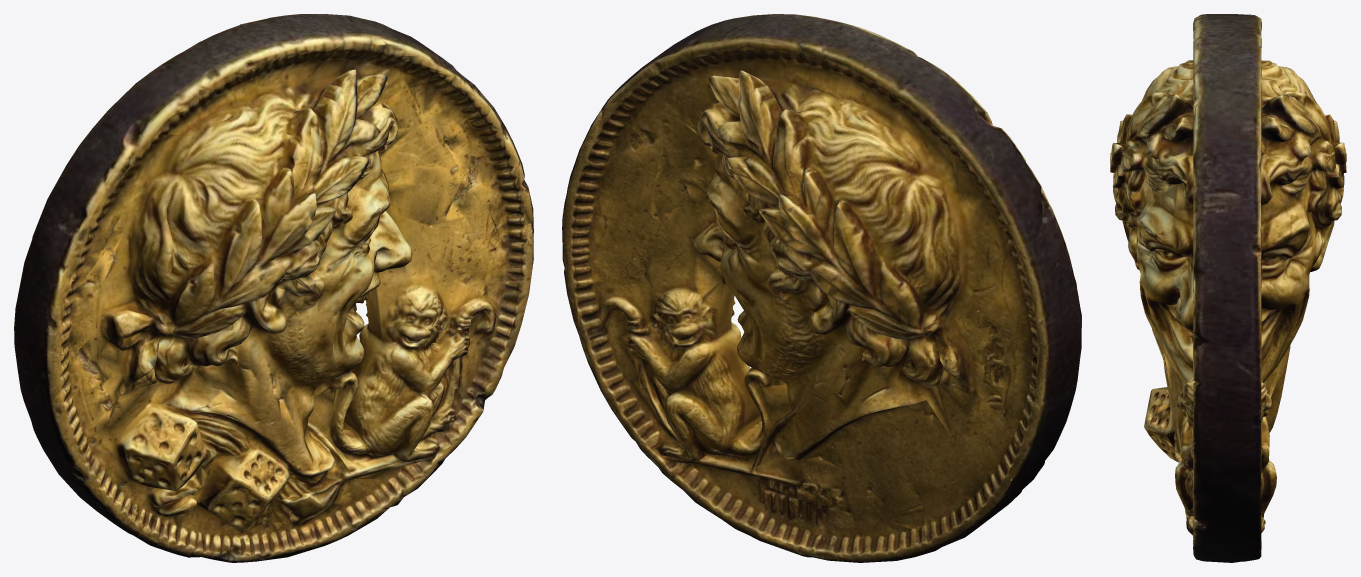
File: hero-degen.glb
3 views of the same model, side by side, from view 1: azimuth 30°, elevation 25°; view 2: azimuth 150°, elevation 25°; view 3: azimuth 270°, elevation 25° (orthographic). The views are drawn at different scales.
Visible parts, largest first — view 1: tripo_node_7394aa80-a9e5-45a8-8621-0622c32f56fe; view 2: tripo_node_7394aa80-a9e5-45a8-8621-0622c32f56fe; view 3: tripo_node_7394aa80-a9e5-45a8-8621-0622c32f56fe.
Boxes of the visible parts, left/top/right/bottom form: tripo_node_7394aa80-a9e5-45a8-8621-0622c32f56fe: left=14, top=14, right=533, bottom=562; tripo_node_7394aa80-a9e5-45a8-8621-0622c32f56fe: left=562, top=14, right=1081, bottom=562; tripo_node_7394aa80-a9e5-45a8-8621-0622c32f56fe: left=1110, top=14, right=1346, bottom=562.
Size of the model in its own units: 0.9979 by 0.9998 by 0.4315.
Materials: 1 (1 with a texture image).
